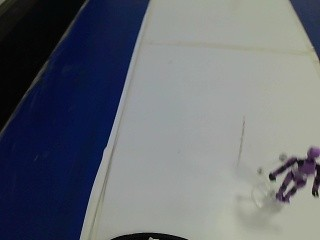pedestrian: (248, 131, 318, 218)
